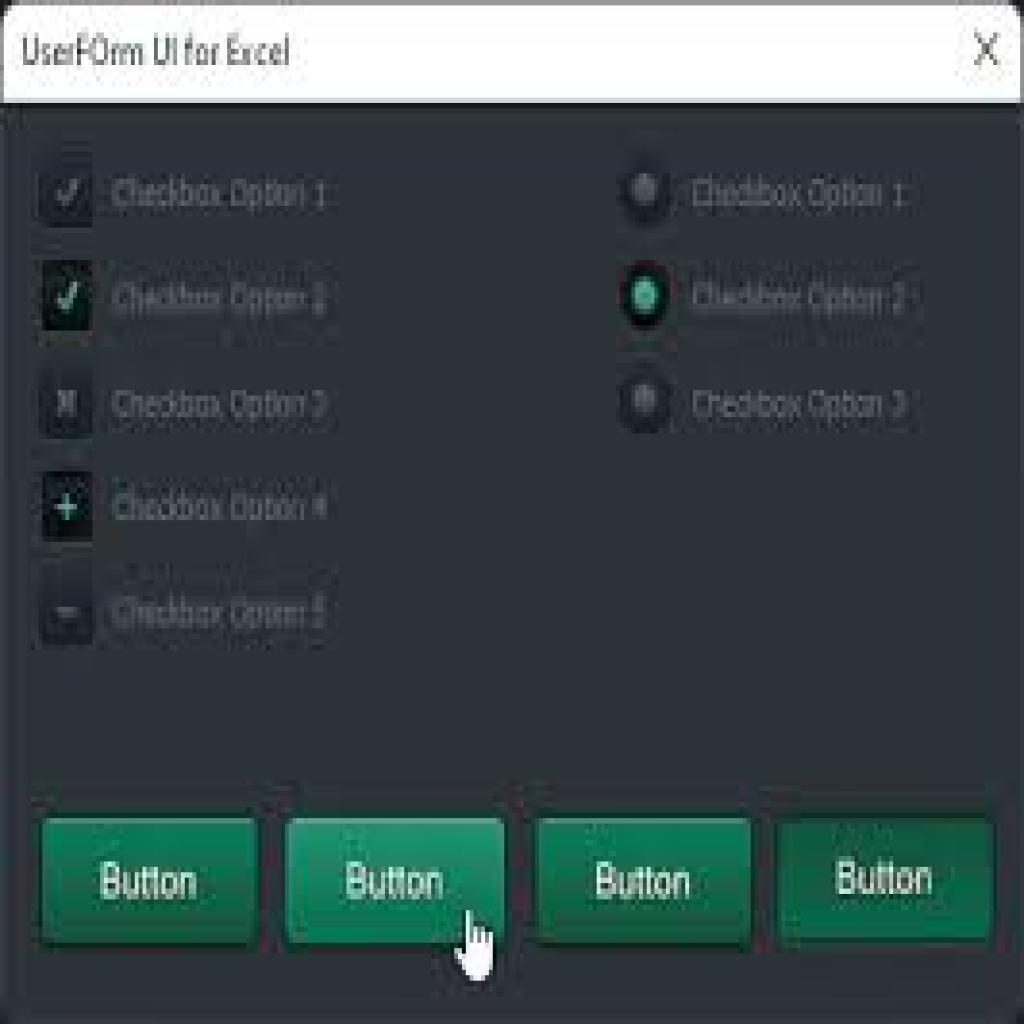button: (532, 815, 752, 942), (778, 817, 997, 944), (285, 818, 506, 941), (47, 817, 260, 944)
checkbox: (34, 153, 98, 228), (38, 359, 96, 439), (42, 259, 97, 330), (38, 579, 93, 647), (43, 471, 93, 543)
radio: (615, 261, 675, 332), (615, 370, 677, 438), (622, 166, 670, 219)
